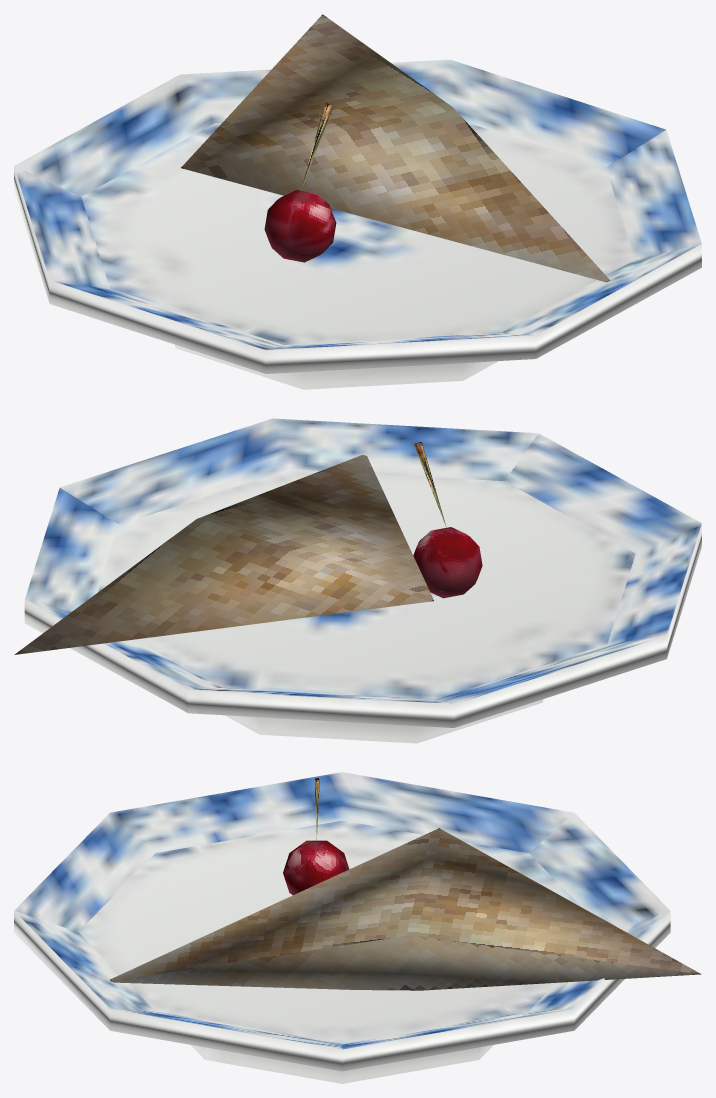
Rendered from ps1_plate.glb.
3 renders of one model, top to bottom at view 1: azimuth 30°, elevation 25°; view 2: azimuth 150°, elevation 25°; view 3: azimuth 270°, elevation 25°, orthographic. The views are drawn at different scales.
Parts seen in each view (by area): view 1: Cylinder_1, Plane_0, Icosphere_2; view 2: Cylinder_1, Plane_0, Icosphere_2; view 3: Cylinder_1, Plane_0, Icosphere_2.
Boxes of the visible parts, <box> form: Cylinder_1: <box>14,59,701,389</box>; Plane_0: <box>181,14,610,282</box>; Icosphere_2: <box>264,103,336,262</box>; Cylinder_1: <box>24,418,701,743</box>; Plane_0: <box>14,455,433,654</box>; Icosphere_2: <box>413,442,482,598</box>; Cylinder_1: <box>14,772,670,1083</box>; Plane_0: <box>110,828,701,990</box>; Icosphere_2: <box>283,778,349,894</box>.
Bounding box in the file's own units: 4.79 × 1.64 × 5.02.
3 materials, 3 textured.
